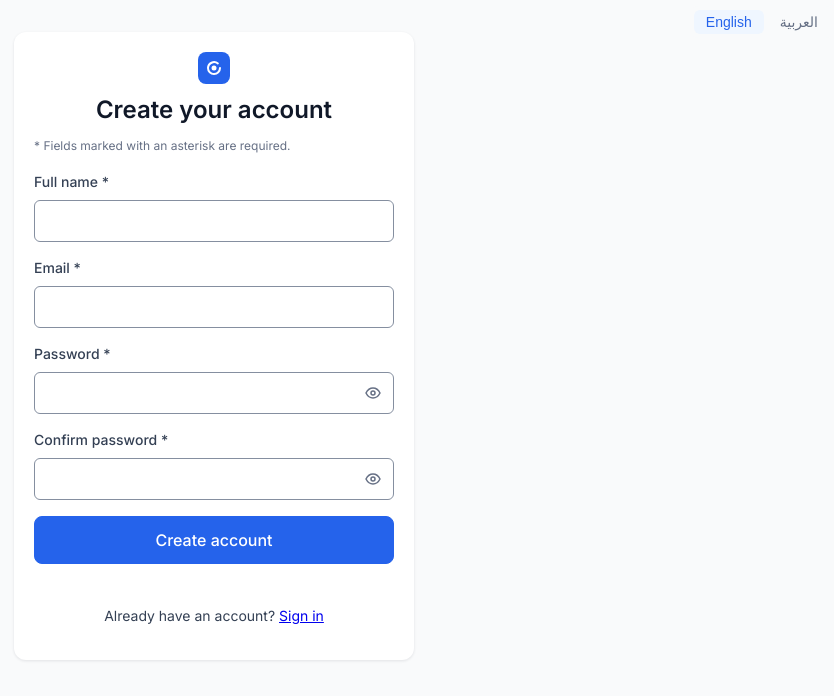
Test: RegisterPage › shows a generic validation message on a 422 backend validation error
This screenshot has width=834, height=696.
Type "New Person" into the field labelled "Full name *".
click(214, 221); type("New Person")  # box top-left (47, 201), bottom-right (381, 241)
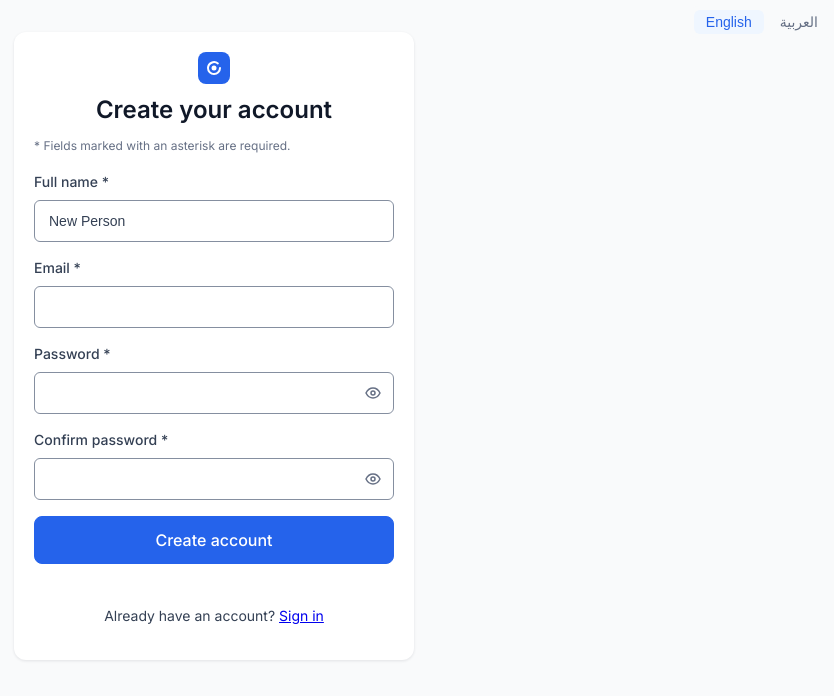
Type "new@example.com" into the field labelled "Email *".
click(214, 307); type("new@example.com")  # box top-left (47, 287), bottom-right (381, 327)
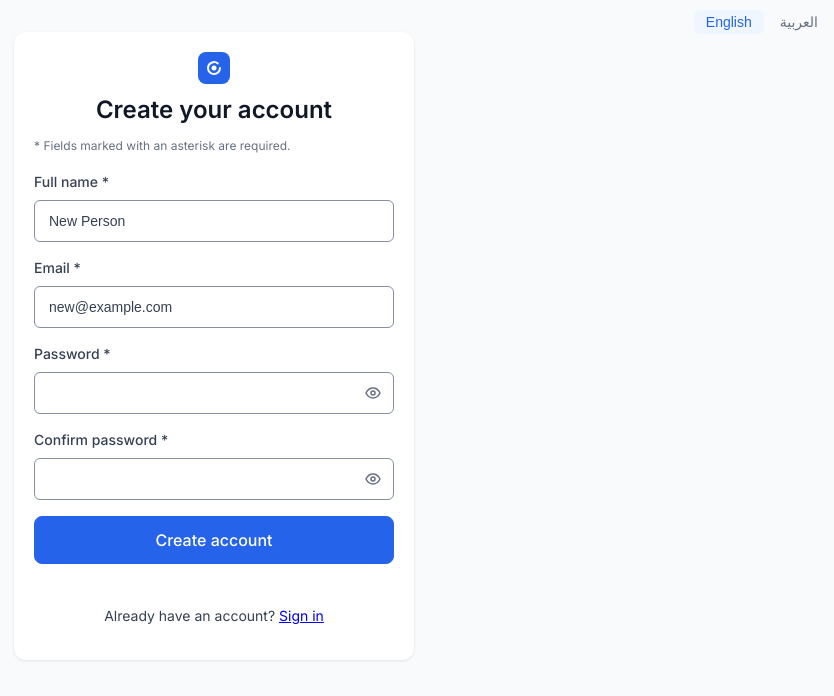
Type "Passw0rd!" into the password field labelled "Password *".
click(202, 393); type("Passw0rd!")  # box top-left (47, 373), bottom-right (357, 413)
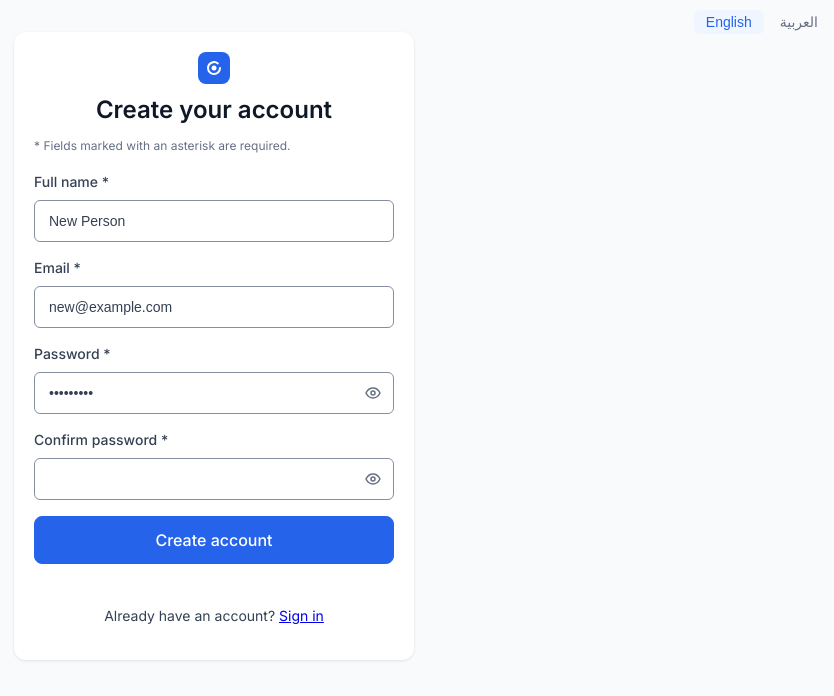
Type "Passw0rd!" into the password field labelled "Confirm password *".
click(202, 479); type("Passw0rd!")  # box top-left (47, 459), bottom-right (357, 499)
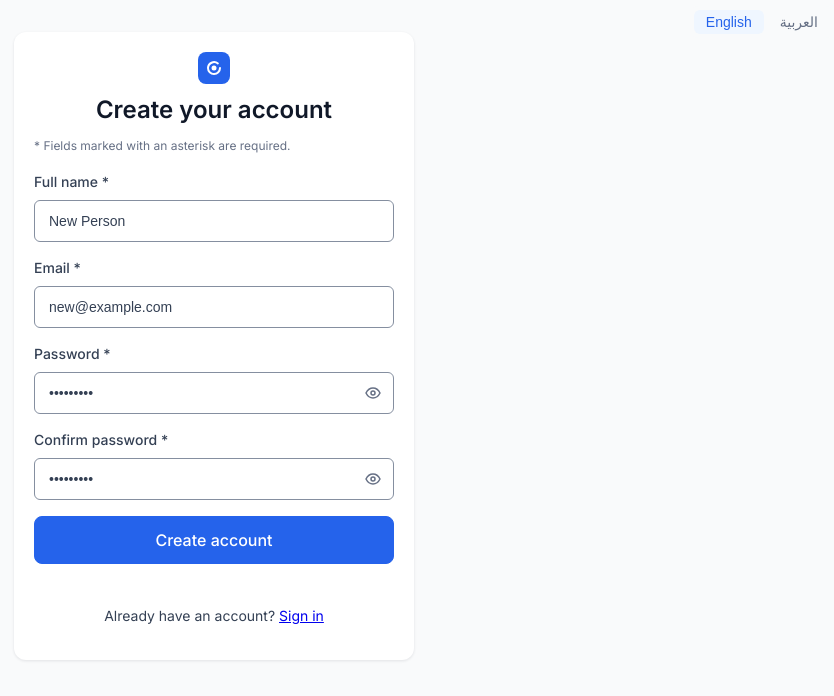
Click the button "Create account".
click(214, 540)  # box top-left (34, 516), bottom-right (394, 564)
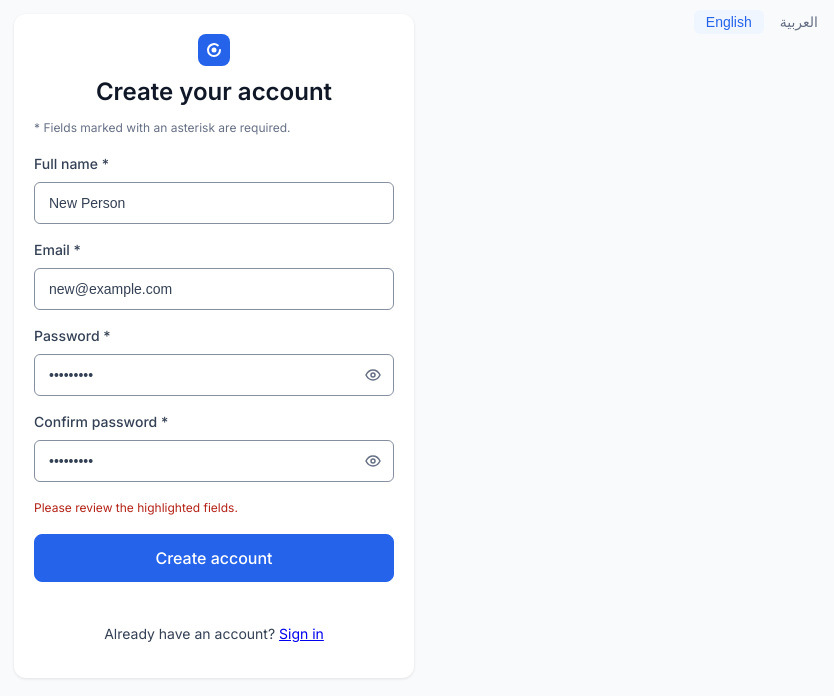
Result: the text "Please review the highlighted fields." is shown at top-left (34, 500), bottom-right (238, 515)
